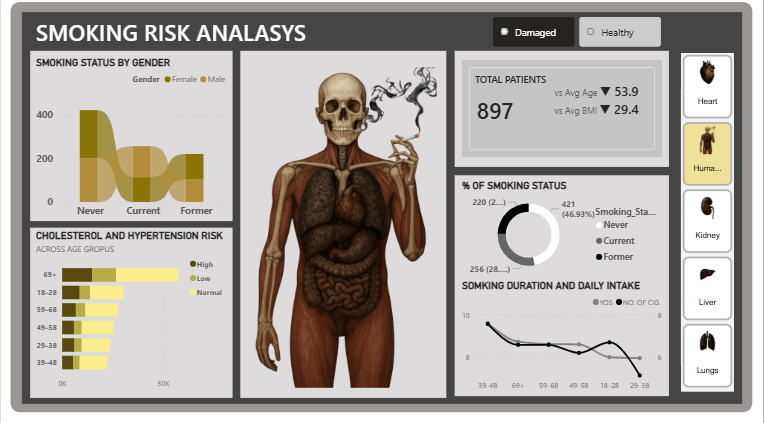

What the dashboard file says about the page in this screenshot:
{"tool":"powerbi","page":{"name":"Page 1","canvas":[1280,720],"ordinal":0},"visuals":[{"type":"cardVisual","fields":{"Data":["CountNonNull(health_dataset.Patient_ID)"]},"box":[769.3,102.5,346,173],"z":0},{"type":"textbox","box":[791.2,124.3,162.9,52.1],"z":1000},{"type":"advancedSlicerVisual","fields":{"Values":["condition.Organ_Condition"]},"box":[821.4,30.2,294,60.5],"z":2000},{"type":"ChicletSlicer1448559807354","fields":{"Category":["Image Dataset.Organ"],"Image":["Image Dataset.Image URL"]},"box":[1137.2,90.7,99.1,581.2],"z":3000},{"type":"image","box":[409.9,104.1,332.6,554.3],"z":4000},{"type":"donutChart","title":"% OF SMOKING STATUS","fields":{"Category":["health_dataset.Smoking_Status"],"Y":["CountNonNull(health_dataset.Cigarettes_Per_Day)"]},"box":[769.3,307.4,346,168],"z":5000},{"type":"lineChart","title":"SOMKING DURATION AND DAILY INTAKE","fields":{"Category":["health_dataset.Age Group"],"Y":["Avg(health_dataset.Years_of_Smoking)"],"Y2":["Avg(health_dataset.Cigarettes_Per_Day)"]},"box":[769.3,475.4,346,196.5],"z":6000},{"type":"ribbonChart","title":"SMOKING STATUS BY GENDER","fields":{"Category":["health_dataset.Smoking_Status"],"Y":["CountNonNull(health_dataset.Patient_ID)"],"Series":["health_dataset.Gender"]},"box":[53.8,100.8,332.6,280.5],"z":7000},{"type":"barChart","title":"CHOLESTEROL AND HYPERTENSION RISK","fields":{"Category":["health_dataset.Age Group"],"Y":["Sum(health_dataset.Cholesterol_Level)"],"Series":["health_dataset.BP_Risk"]},"box":[53.8,391.4,332.6,277.2],"z":8000},{"type":"textbox","box":[53.8,30.2,586.2,60.5],"z":9000}]}

Visuals, with their boxes in screenshot pixels (x1, y1, x2, y2), scaled from the page's 1280x720 canvas onto the 764x423 screenshot:
cardVisual - CountNonNull(health_dataset.Patient_ID): 459/60/666/162
textbox: 472/73/569/104
advancedSlicerVisual - condition.Organ_Condition: 490/18/666/53
ChicletSlicer1448559807354 - Image Dataset.Organ x Image Dataset.Image URL: 679/53/738/395
image: 245/61/443/387
"% OF SMOKING STATUS" donutChart: 459/181/666/279
"SOMKING DURATION AND DAILY INTAKE" lineChart: 459/279/666/395
"SMOKING STATUS BY GENDER" ribbonChart: 32/59/231/224
"CHOLESTEROL AND HYPERTENSION RISK" barChart: 32/230/231/393
textbox: 32/18/382/53
